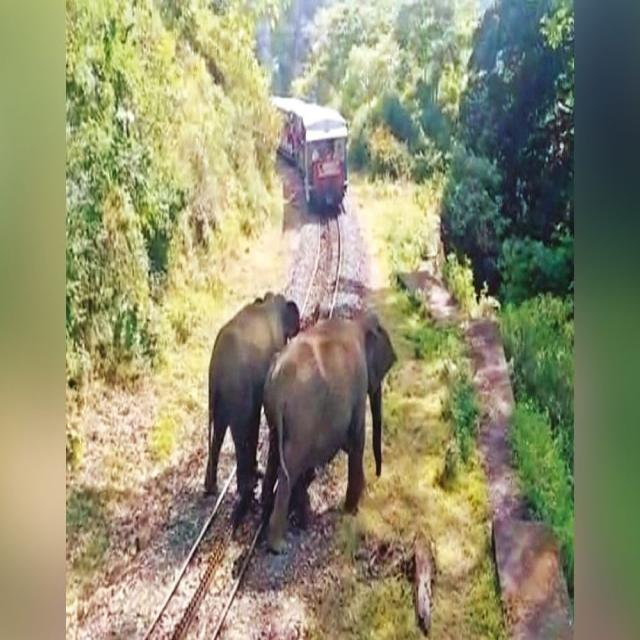Elephant: (268, 285, 403, 551), (201, 280, 269, 548)
